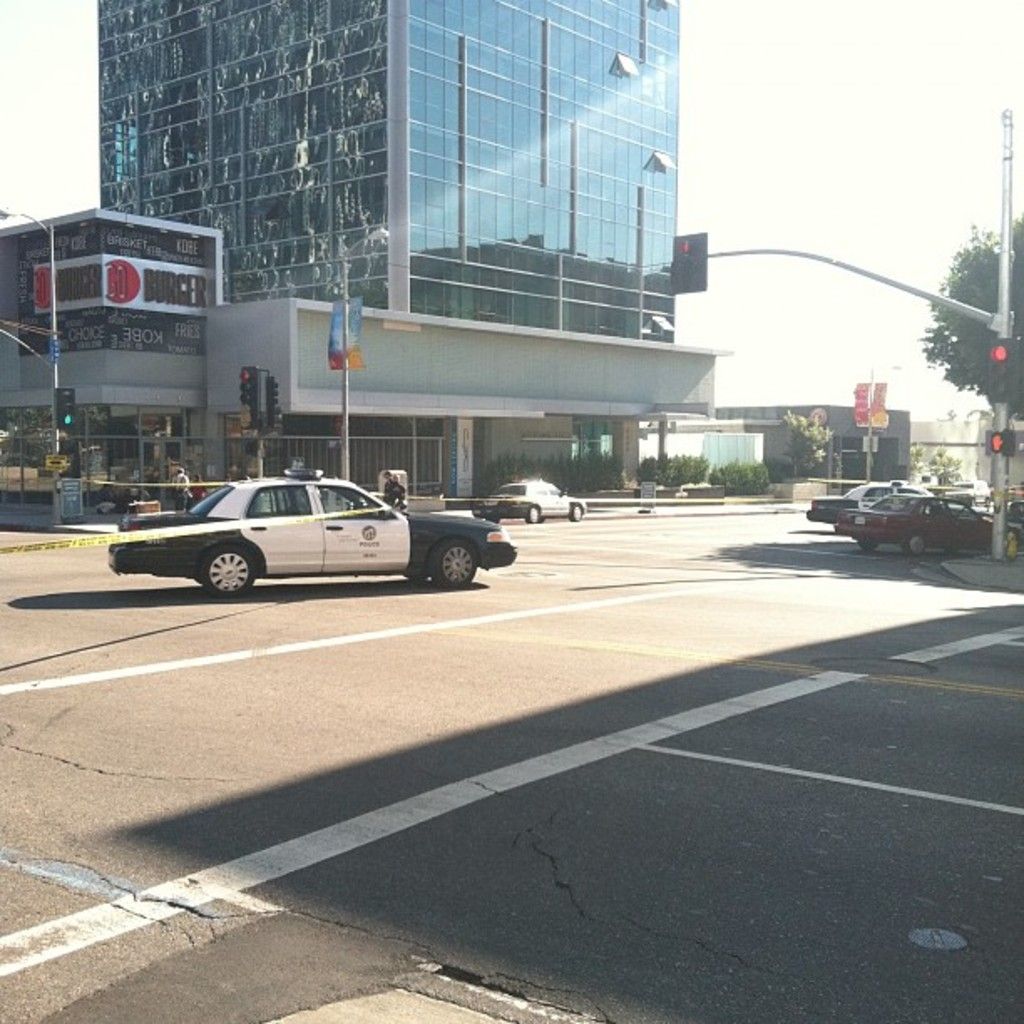Car: (118, 460, 480, 595), (833, 485, 1020, 557), (471, 478, 585, 522), (803, 478, 920, 520), (947, 478, 988, 503)
